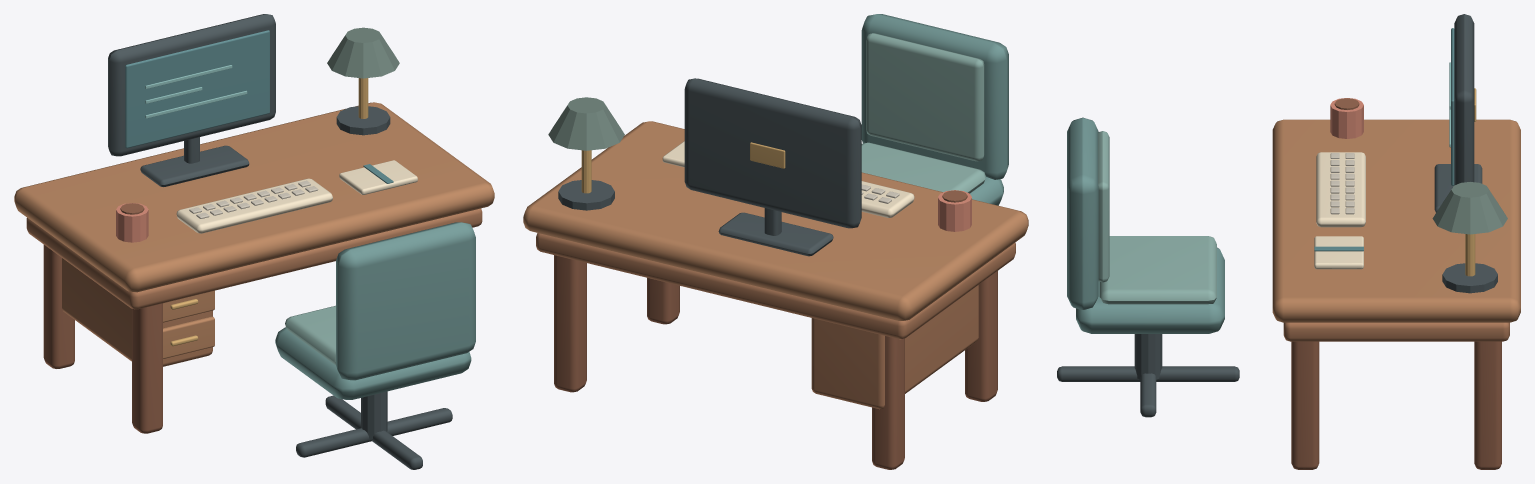
File: workstation.glb
3 renders of one model, left to right at view 1: azimuth 30°, elevation 25°; view 2: azimuth 150°, elevation 25°; view 3: azimuth 270°, elevation 25°, orthographic. The views are drawn at different scales.
Parts seen in each view (by area): view 1: desk_root_wood_light, chair_root_chair, desk_root_screen, desk_root_wood, desk_root_iron, desk_root_wood_edge, desk_root_paper, chair_root_iron, desk_root_lamp, chair_root_chair_light, desk_root_keys, desk_root_screen_glow (+2 smaller); view 2: desk_root_wood_light, desk_root_iron, desk_root_wood, chair_root_chair_light, desk_root_wood_edge, chair_root_chair, desk_root_lamp, desk_root_paper, desk_root_brass, desk_root_mug; view 3: desk_root_wood_light, chair_root_chair, chair_root_chair_light, desk_root_wood_edge, desk_root_iron, desk_root_wood, desk_root_paper, chair_root_iron, desk_root_lamp, desk_root_keys, desk_root_mug, desk_root_screen (+1 smaller).
Part boxes in pixels (box(x1,y1,x2,y2)): desk_root_wood_light: box(14, 102, 494, 358); chair_root_chair: box(275, 222, 475, 399); desk_root_screen: box(125, 30, 393, 183); desk_root_wood: box(26, 208, 482, 366); desk_root_iron: box(108, 14, 390, 187); desk_root_wood_edge: box(43, 203, 162, 433); desk_root_paper: box(176, 160, 417, 233); chair_root_iron: box(296, 391, 452, 469); desk_root_lamp: box(327, 27, 399, 78); chair_root_chair_light: box(285, 305, 335, 365); desk_root_keys: box(189, 180, 318, 218); desk_root_screen_glow: box(145, 65, 247, 118); desk_root_wood_light: box(523, 121, 1028, 320); desk_root_iron: box(558, 78, 861, 256); desk_root_wood: box(536, 233, 1015, 409); chair_root_chair_light: box(861, 33, 985, 193); desk_root_wood_edge: box(554, 190, 997, 469); chair_root_chair: box(861, 14, 1008, 205); desk_root_lamp: box(548, 97, 624, 150); desk_root_paper: box(662, 141, 914, 217); desk_root_brass: box(581, 142, 785, 193); desk_root_mug: box(938, 190, 971, 231); desk_root_wood_light: box(1272, 119, 1520, 322); chair_root_chair: box(1067, 117, 1224, 333); chair_root_chair_light: box(1098, 131, 1216, 304); desk_root_wood_edge: box(1291, 98, 1501, 469); desk_root_iron: box(1434, 14, 1497, 293); desk_root_wood: box(1283, 322, 1509, 341); desk_root_paper: box(1314, 152, 1365, 269); chair_root_iron: box(1057, 334, 1239, 417); desk_root_lamp: box(1432, 182, 1507, 234); desk_root_keys: box(1330, 153, 1354, 214); desk_root_mug: box(1330, 98, 1363, 138); desk_root_screen: box(1314, 28, 1454, 251).
Size of the model in its own units: 2.22 by 1.8 by 2.34.
